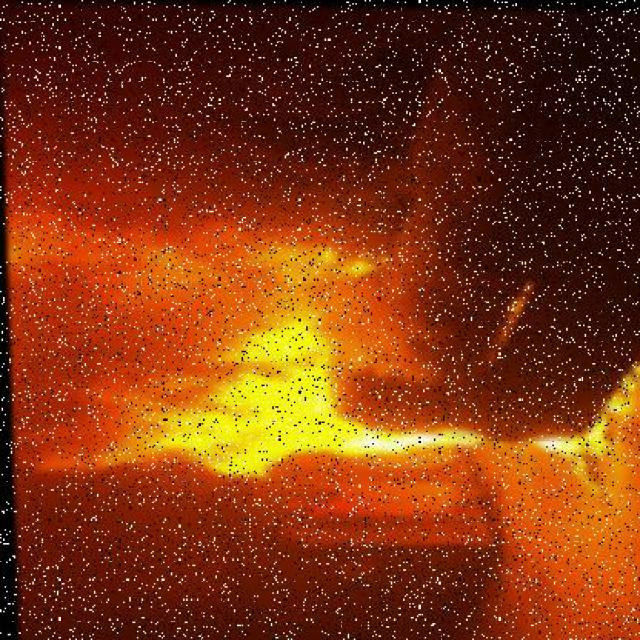fire: (18, 315, 621, 490)
